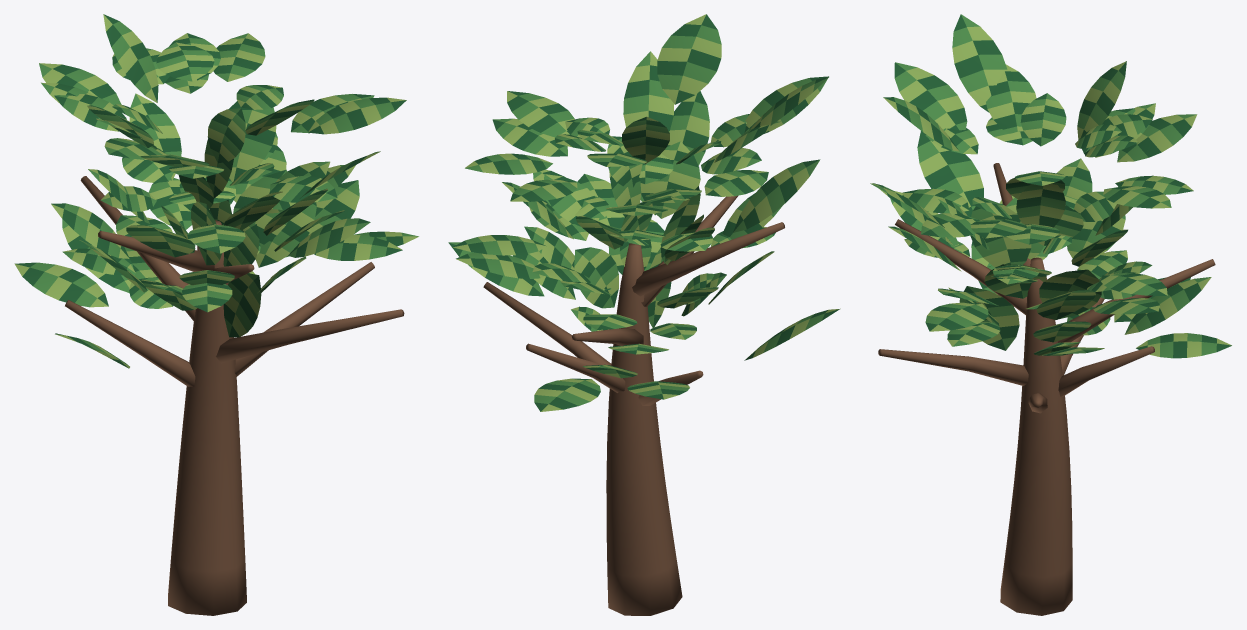
The model's file is arvore_tropical_densa_LOD0-2.fbx.
The picture shows the model from 3 angles, left to right: view 1: azimuth 30°, elevation 25°; view 2: azimuth 150°, elevation 25°; view 3: azimuth 270°, elevation 25°; orthographic projection. The views are drawn at different scales.
Parts seen in each view (by area): view 1: arvore_tropical_densa_LOD0; view 2: arvore_tropical_densa_LOD0; view 3: arvore_tropical_densa_LOD0.
Part boxes in pixels (x1,y1,x2,y2): arvore_tropical_densa_LOD0: (14, 14, 418, 615); arvore_tropical_densa_LOD0: (448, 14, 840, 615); arvore_tropical_densa_LOD0: (870, 14, 1231, 615).
Size of what is drawn, in the model's own units: 352 by 529 by 336.
